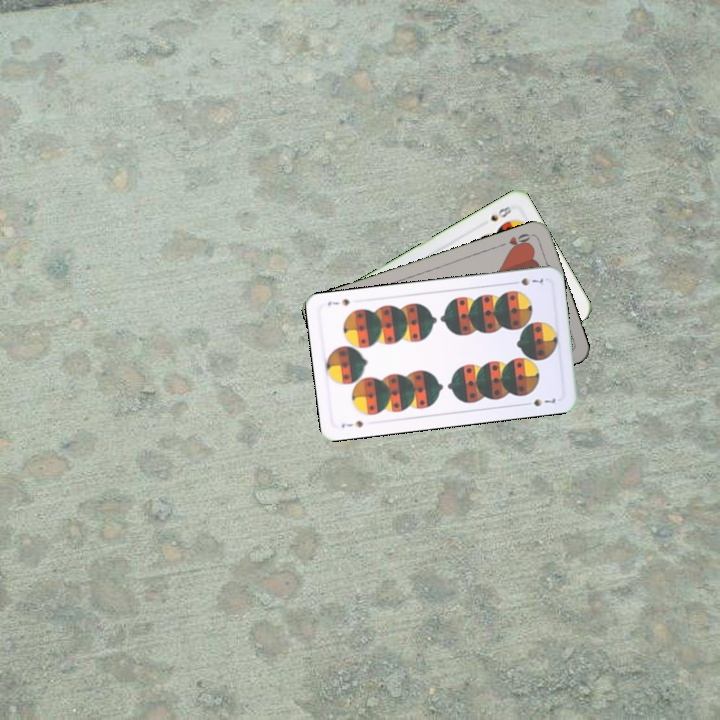HO: (495, 229, 534, 253)
S7: (507, 274, 546, 288), (337, 416, 366, 431)
S8: (486, 202, 514, 224)
